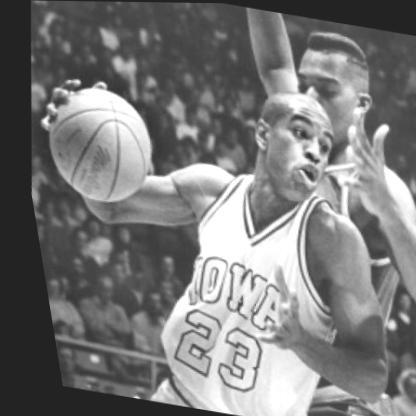basketball: (20, 73, 171, 214)
